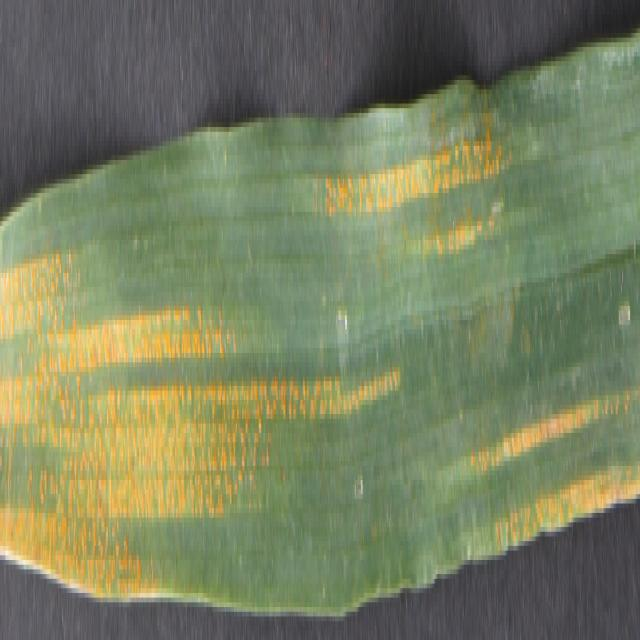leaf rust: (2, 245, 422, 602), (467, 348, 640, 551), (323, 94, 530, 259)
